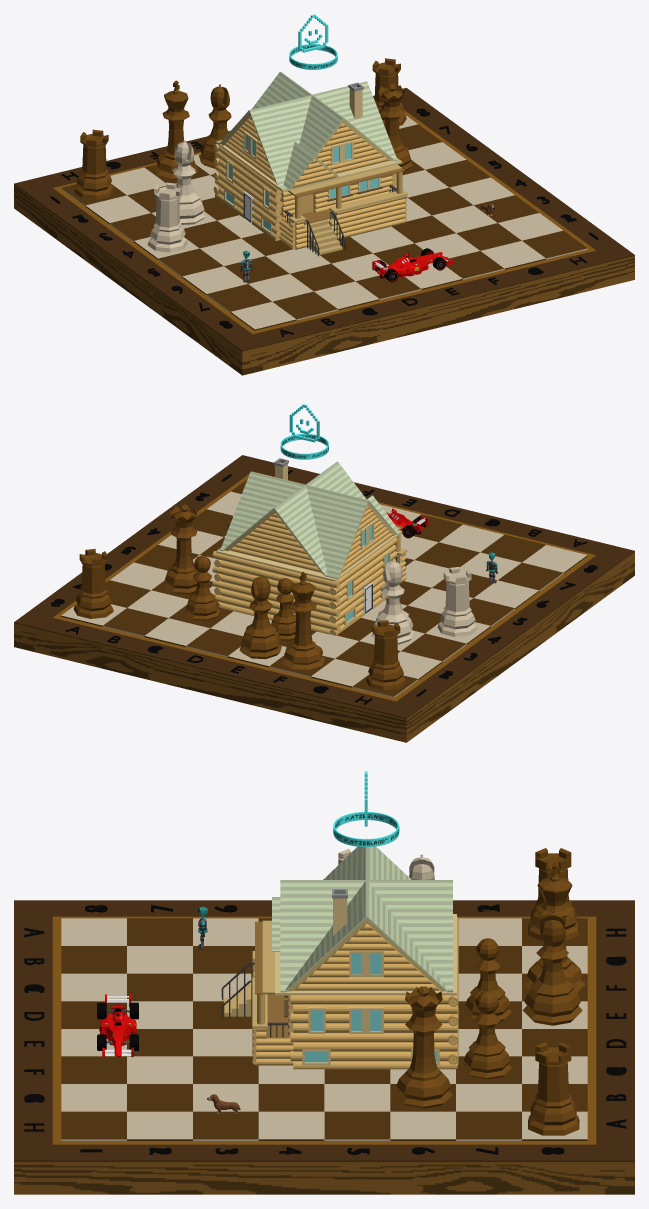
3 views of the same model, one above another, from view 1: azimuth 30°, elevation 25°; view 2: azimuth 150°, elevation 25°; view 3: azimuth 270°, elevation 25° (orthographic). The views are drawn at different scales.
Parts seen in each view (by area): view 1: Cube.002, Cube.1516, VEHICLES_FORMULA_1, TYPE_PREMIUM; view 2: Cube.002, Cube.1516, TYPE_PREMIUM, VEHICLES_FORMULA_1; view 3: Cube.002, Cube.1516, VEHICLES_FORMULA_1, TYPE_PREMIUM.
Part boxes in pixels (x1=…): Cube.002: x1=14, y1=58, x2=634, y2=375; Cube.1516: x1=213, y1=72, x2=407, y2=256; VEHICLES_FORMULA_1: x1=372, y1=248, x2=453, y2=282; TYPE_PREMIUM: x1=289, y1=14, x2=337, y2=69; Cube.002: x1=14, y1=455, x2=634, y2=742; Cube.1516: x1=212, y1=458, x2=407, y2=635; TYPE_PREMIUM: x1=280, y1=404, x2=328, y2=459; VEHICLES_FORMULA_1: x1=386, y1=508, x2=428, y2=538; Cube.002: x1=14, y1=848, x2=634, y2=1194; Cube.1516: x1=221, y1=838, x2=458, y2=1069; VEHICLES_FORMULA_1: x1=97, y1=994, x2=138, y2=1057; TYPE_PREMIUM: x1=333, y1=771, x2=399, y2=847.
Size of the model in its own units: 3981 by 2177 by 4012.
43 materials, 4 textured.
